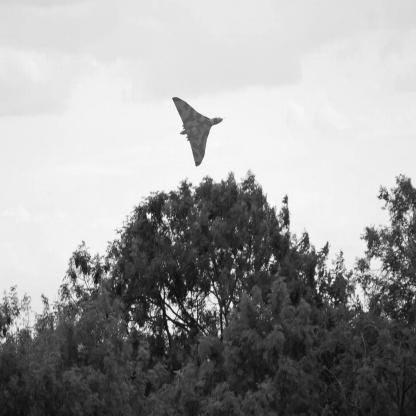Vulcan: (173, 98, 226, 168)
